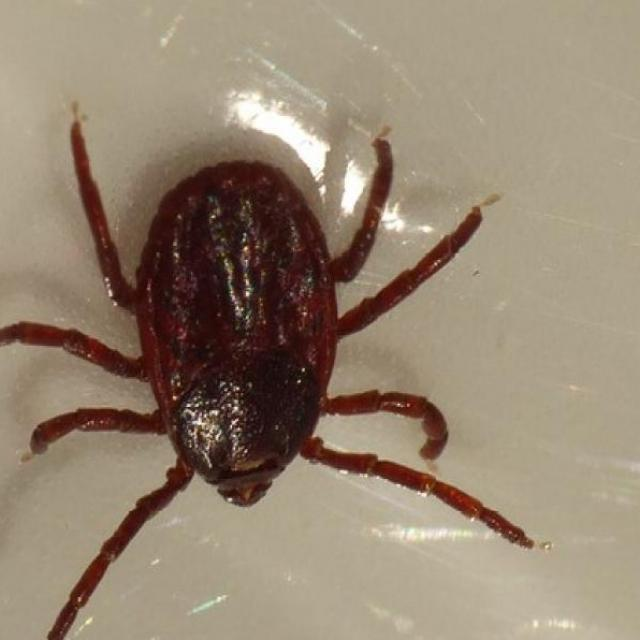Rhipicephalus Sanguineus-F: (0, 114, 547, 640)
